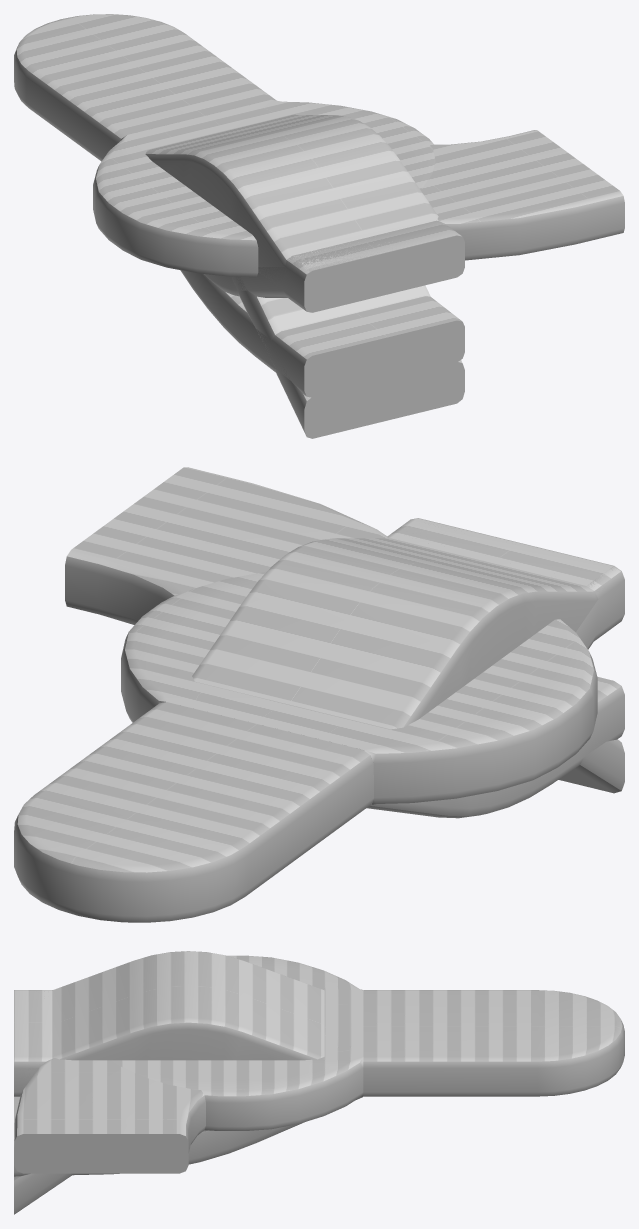
Rendered from Floor_2x2_BothSoft_thin.fbx.
3 views of the same model, one above another, from view 1: azimuth 30°, elevation 25°; view 2: azimuth 150°, elevation 25°; view 3: azimuth 270°, elevation 25° (orthographic). The views are drawn at different scales.
Parts seen in each view (by area): view 1: Floor_2x2_BS_Tn_hill, Floor_2x2_BS_Tn_cap, Floor_2x2_BS_Tn_circle, Floor_2x2_BS_Tn_rotate, Floor_2x2_BS_Tn_ramp2, Floor_2x2_BS_Tn_ramp1, Floor_2x2_BS_Tn_deep; view 2: Floor_2x2_BS_Tn_cap, Floor_2x2_BS_Tn_hill, Floor_2x2_BS_Tn_circle, Floor_2x2_BS_Tn_rotate, Floor_2x2_BS_Tn_deep, Floor_2x2_BS_Tn_ramp2, Floor_2x2_BS_Tn_ramp1; view 3: Floor_2x2_BS_Tn_cap, Floor_2x2_BS_Tn_hill, Floor_2x2_BS_Tn_rotate, Floor_2x2_BS_Tn_circle, Floor_2x2_BS_Tn_deep, Floor_2x2_BS_Tn_ramp2, Floor_2x2_BS_Tn_ramp1.
Boxes of the visible parts, box(x1,y1,x2,y2) form: Floor_2x2_BS_Tn_hill: box(145, 114, 464, 312); Floor_2x2_BS_Tn_cap: box(14, 14, 276, 161); Floor_2x2_BS_Tn_circle: box(93, 100, 435, 277); Floor_2x2_BS_Tn_rotate: box(420, 130, 624, 260); Floor_2x2_BS_Tn_ramp2: box(180, 270, 464, 397); Floor_2x2_BS_Tn_ramp1: box(232, 276, 464, 438); Floor_2x2_BS_Tn_deep: box(204, 220, 461, 311); Floor_2x2_BS_Tn_cap: box(14, 702, 373, 922); Floor_2x2_BS_Tn_hill: box(192, 524, 616, 729); Floor_2x2_BS_Tn_circle: box(121, 571, 597, 804); Floor_2x2_BS_Tn_rotate: box(65, 467, 387, 624); Floor_2x2_BS_Tn_deep: box(373, 518, 624, 796); Floor_2x2_BS_Tn_ramp2: box(366, 677, 624, 818); Floor_2x2_BS_Tn_ramp1: box(558, 739, 624, 793); Floor_2x2_BS_Tn_cap: box(363, 990, 624, 1096); Floor_2x2_BS_Tn_hill: box(14, 951, 324, 1096); Floor_2x2_BS_Tn_rotate: box(14, 1058, 205, 1173); Floor_2x2_BS_Tn_circle: box(112, 955, 363, 1130); Floor_2x2_BS_Tn_deep: box(14, 990, 208, 1131); Floor_2x2_BS_Tn_ramp2: box(14, 1096, 362, 1176); Floor_2x2_BS_Tn_ramp1: box(14, 1173, 71, 1214).
Size of the model in its own units: 493 by 249 by 700.
